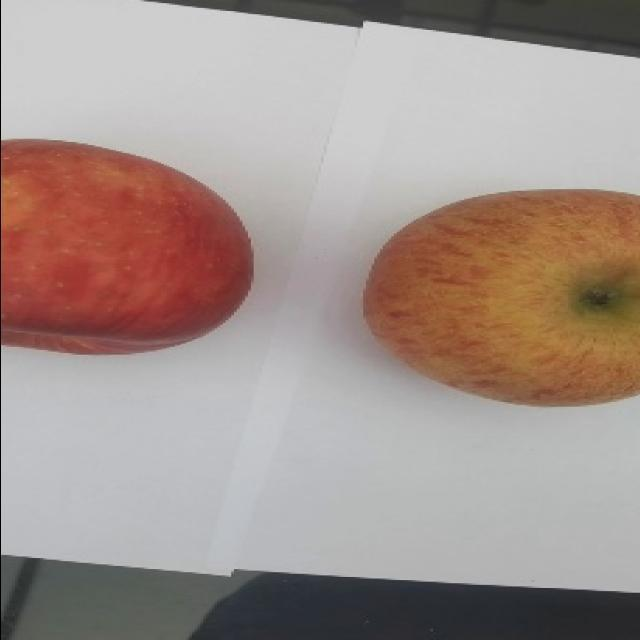Apple: (362, 187, 639, 407), (0, 137, 254, 355)
